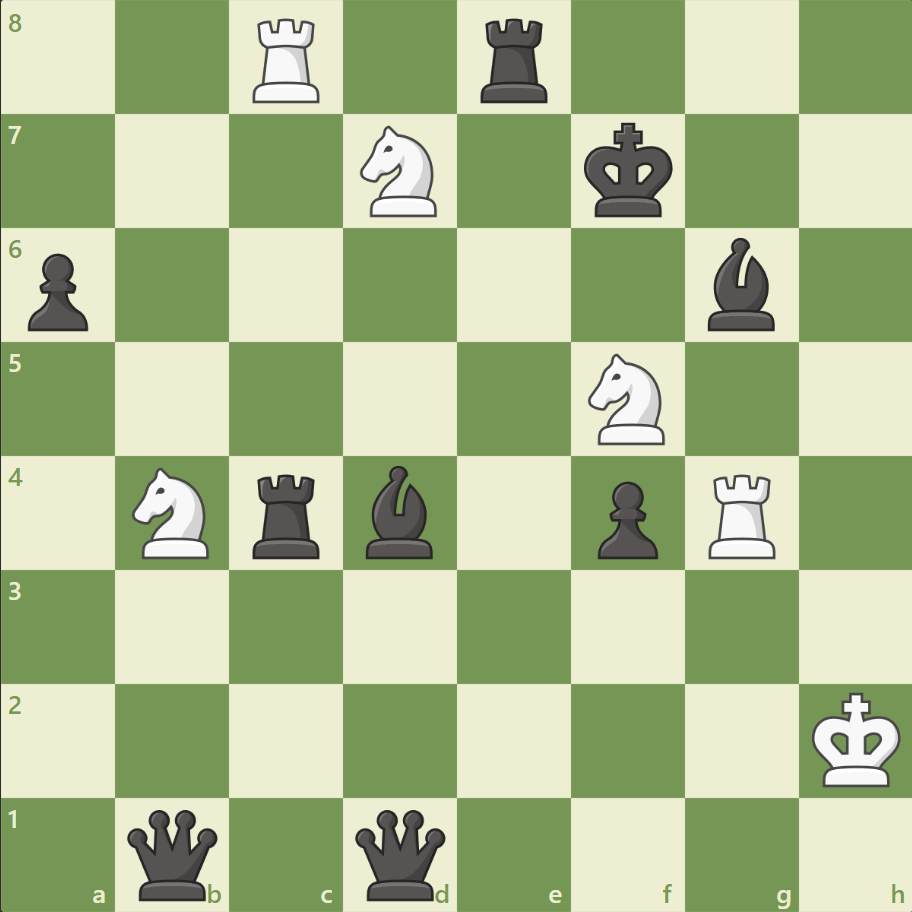K: (806, 685, 906, 793)
N: (124, 461, 222, 564), (351, 121, 449, 223), (579, 348, 676, 450)
R: (246, 12, 329, 109), (700, 466, 783, 563)
b: (698, 233, 782, 336), (358, 460, 442, 563)
k: (579, 117, 679, 225)
p: (20, 246, 95, 337), (588, 473, 662, 564)
q: (124, 804, 223, 903), (351, 804, 450, 903)
r: (473, 12, 556, 109), (246, 466, 329, 563)
